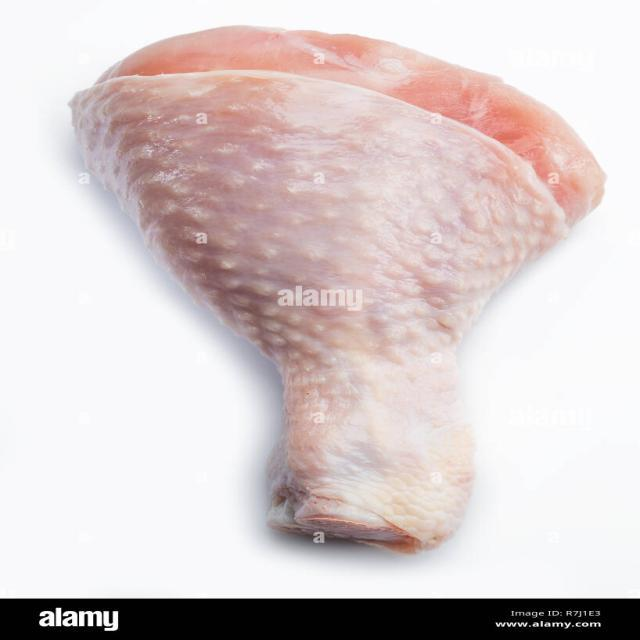leg: (79, 24, 592, 554)
